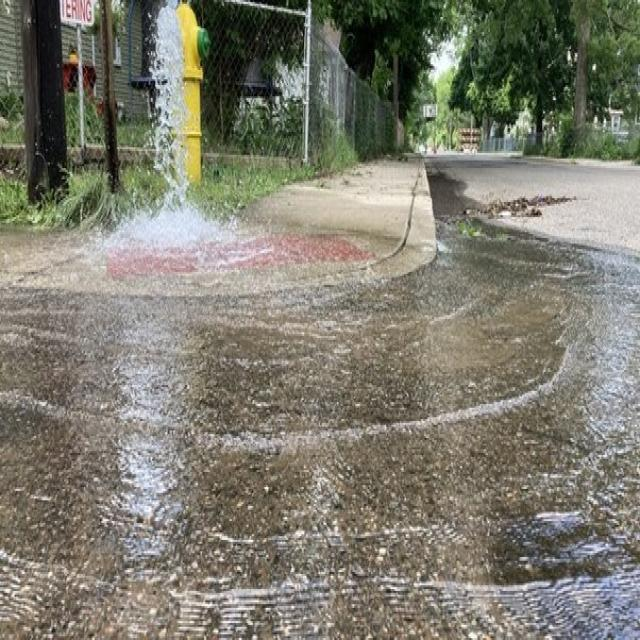water_leak: (92, 0, 239, 405)
